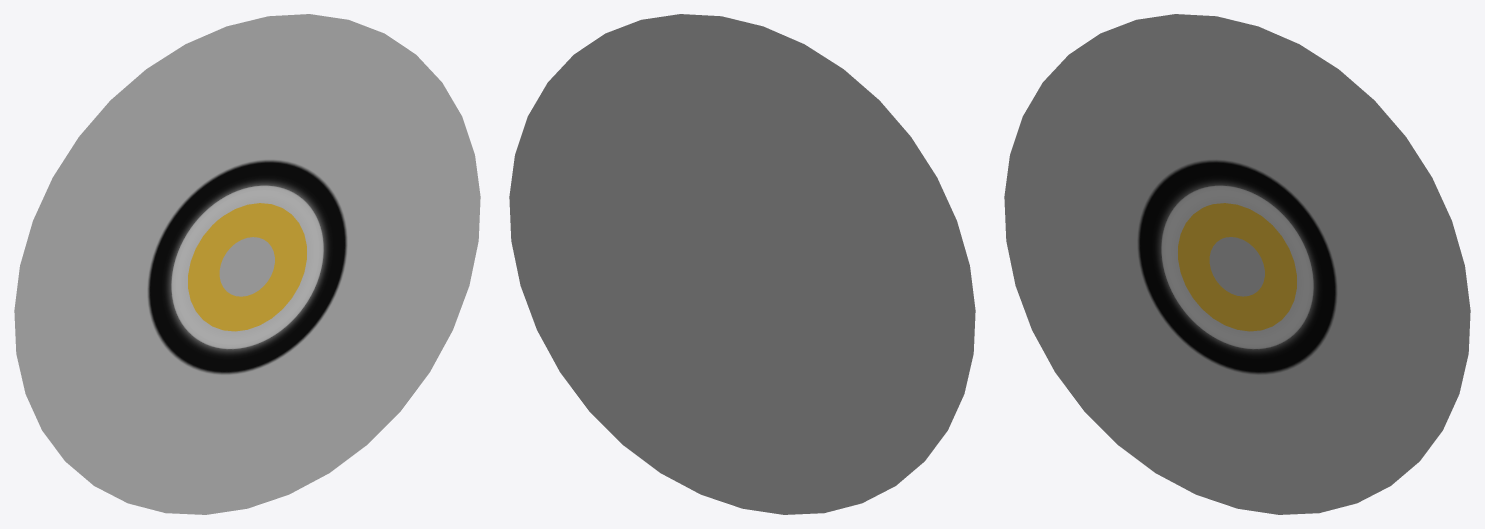
The model's file is pref_BattleSkillDynamicSkillBtn1.fbx.
3 renders of one model, left to right at view 1: azimuth 30°, elevation 25°; view 2: azimuth 150°, elevation 25°; view 3: azimuth 330°, elevation 25°, orthographic.
Parts seen in each view (by area): view 1: flare, ring1, ring2, glow03; view 2: flare, glow03, ring4 (×2), glow_02 (4), line; view 3: flare, ring1, ring2, glow03.
Part boxes in pixels (x1,y1,x2,y2): flare: (14,14,480,514); ring1: (147,159,347,375); ring2: (188,203,306,331); glow03: (219,237,274,296); flare: (509,14,975,514); glow03: (636,153,848,380); ring4 (×2): (649,167,834,337); glow_02 (4): (674,193,810,340); line: (645,162,840,341); flare: (1004,14,1470,514); ring1: (1137,159,1337,375); ring2: (1178,203,1296,331); glow03: (1209,237,1264,296).
Size of the model in its own units: 329 by 329 by 0.0209.
